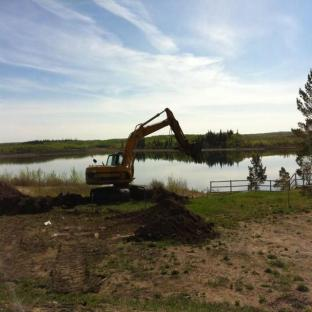ExcavationMachinery: (79, 87, 223, 213)
